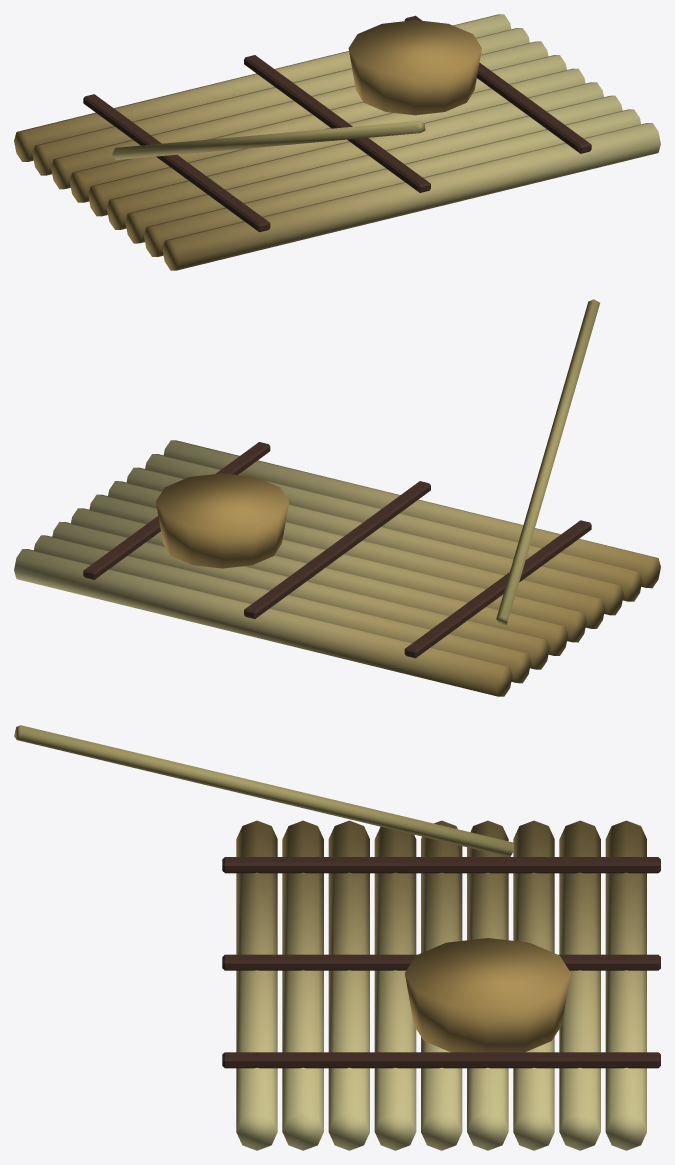
File: bamboo_raft.glb
The picture shows the model from 3 angles, top to bottom: view 1: azimuth 30°, elevation 25°; view 2: azimuth 150°, elevation 25°; view 3: azimuth 270°, elevation 25°; orthographic projection. The views are drawn at different scales.
Parts seen in each view (by area): view 1: Raft; view 2: Raft; view 3: Raft.
Part boxes in pixels (left/top/right/bottom): Raft: left=14, top=14, right=660, bottom=270; Raft: left=14, top=299, right=660, bottom=696; Raft: left=14, top=725, right=660, bottom=1150.
Bounding box in the file's own units: 3 × 1.08 × 2.8.
